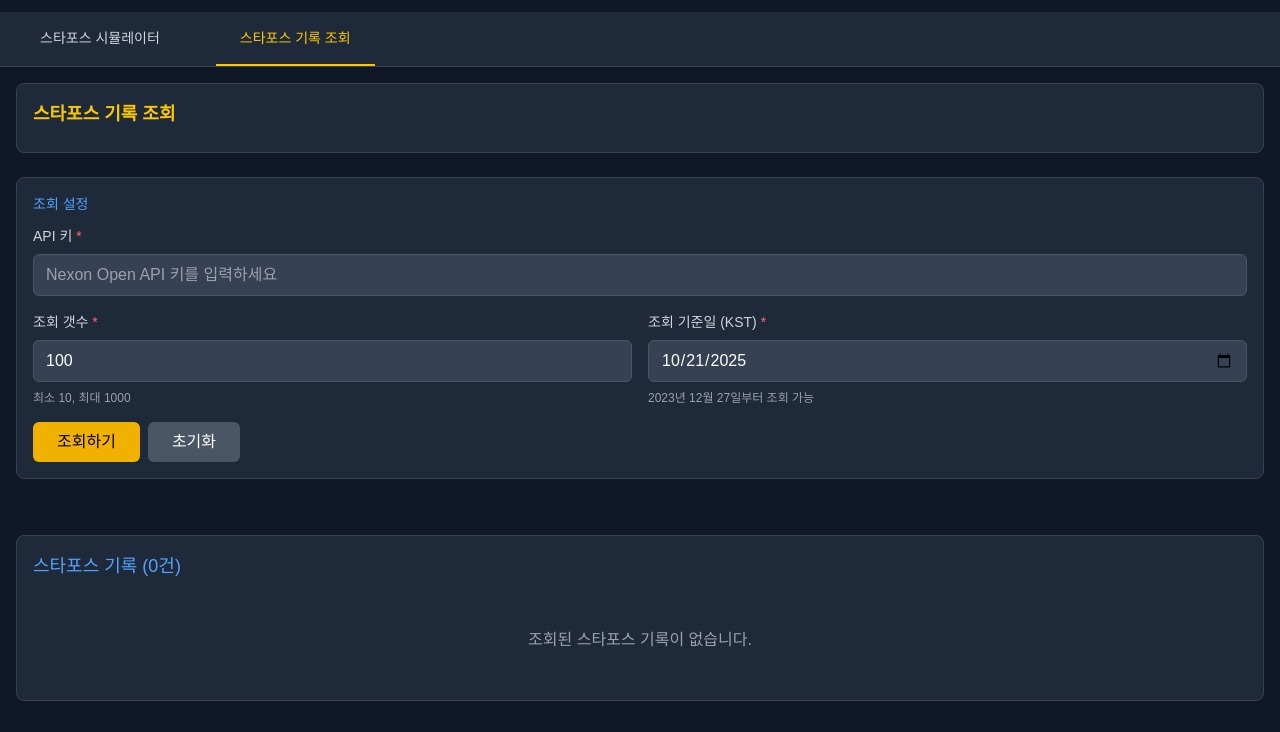
Test: 히스토리 - 조회 기능 › API 모킹 후 조회 → 성공 확인
# API 키 입력
Type "test-api-key" into the password field with test id "apikey" at (640, 275), box [33,254,1247,296]
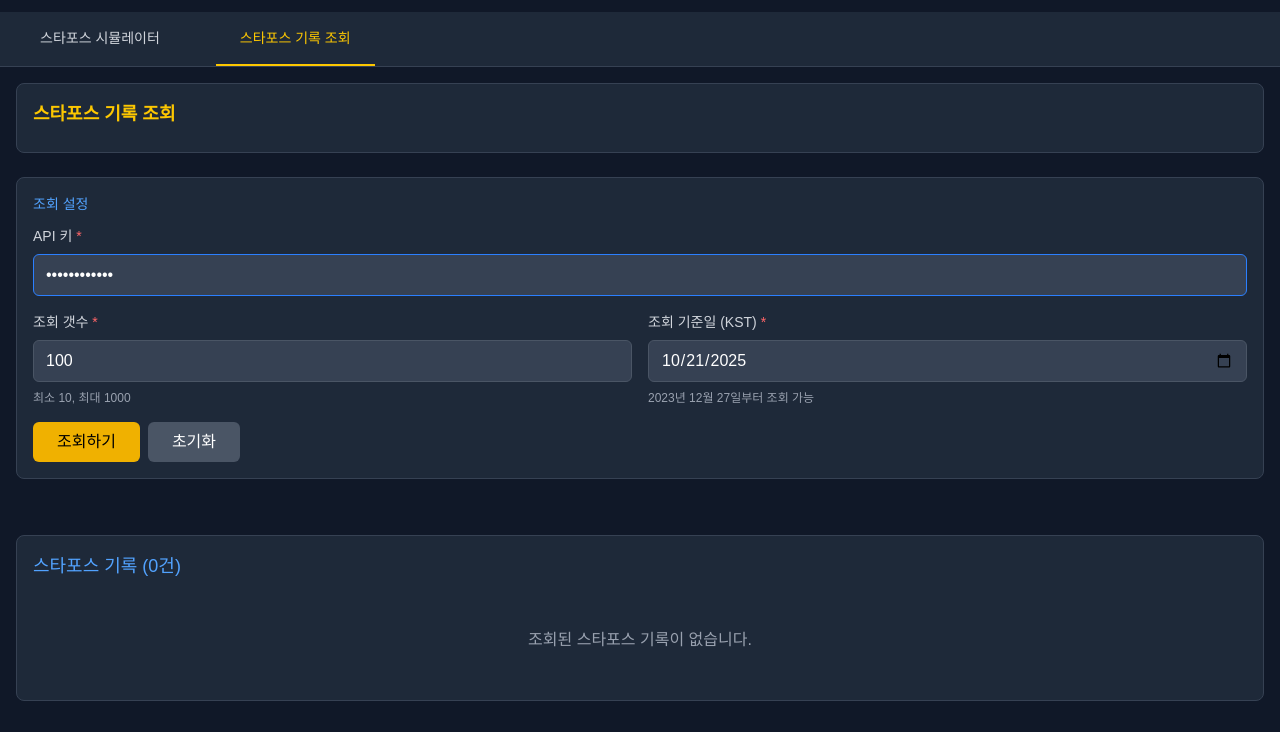
# 조회하기 버튼 클릭
Click the button with test id "btn-submit" at (87, 442), box [33,422,140,462]
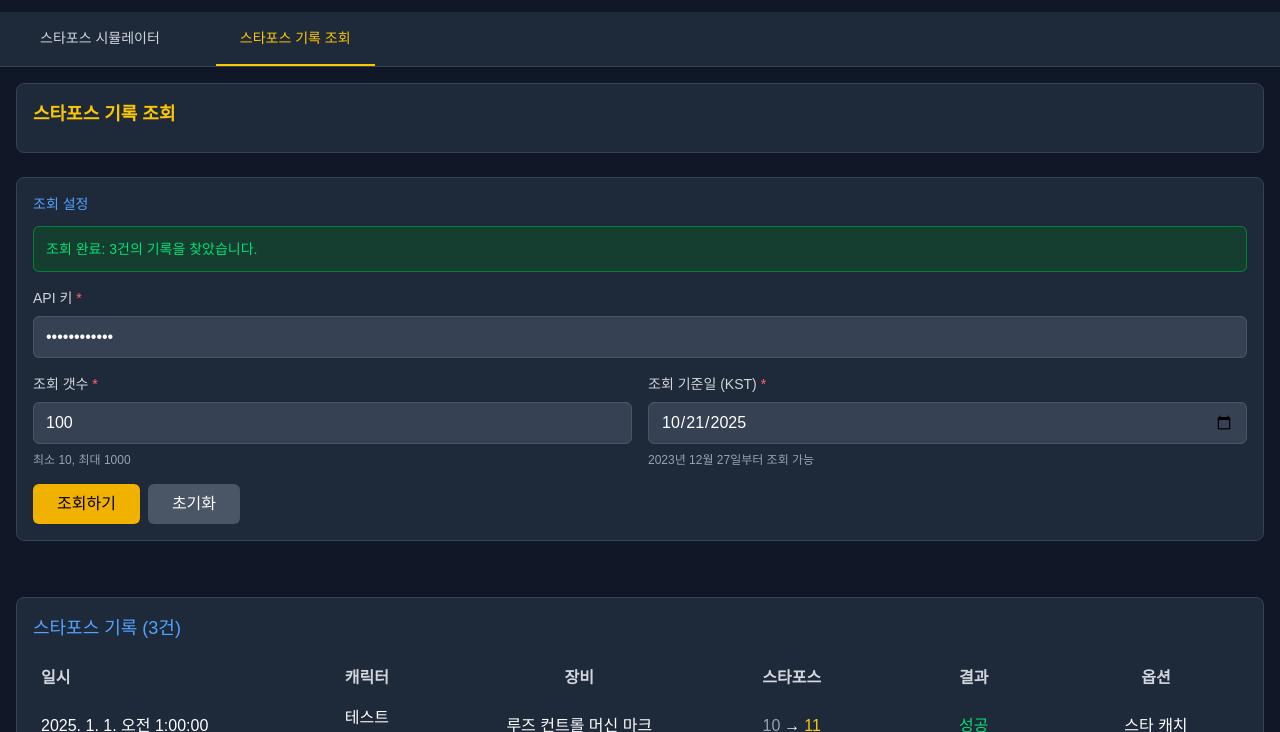
Check: the text "조회 완료: 3건의 기록을 찾았습니다." is shown, box [46,241,258,257]
Check: the heading "스타포스 기록 (3건)" is shown, box [33,618,181,638]
Check: the text "테스트" is shown, box [345,709,389,726]
